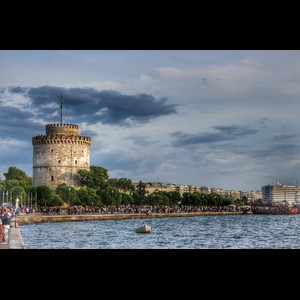White Tower: (29, 91, 93, 189)
